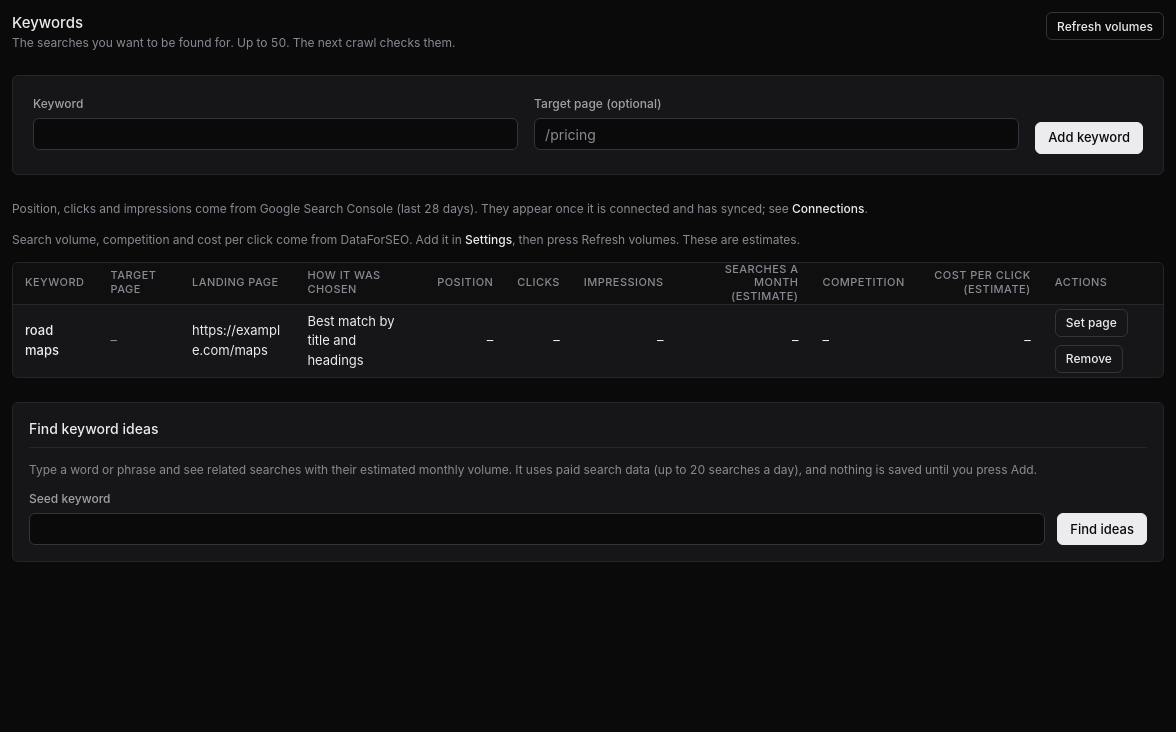
Test: Refresh volumes shows the error when the refresh failed
The width and height of the screenshot is (1176, 732).
Click the button "Refresh volumes": (1105, 26) [1046, 12, 1164, 40]
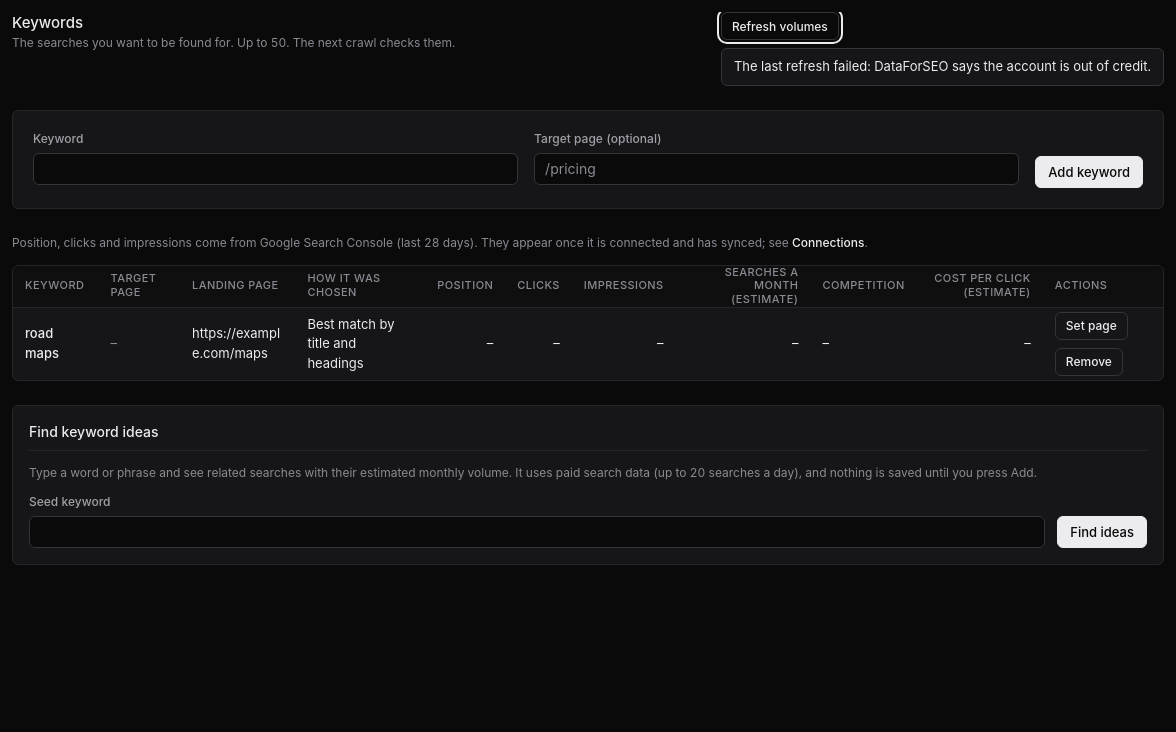
Check: the text "The last refresh failed: DataForSEO says the account is out of credit." is shown, box [721, 48, 1164, 86]
